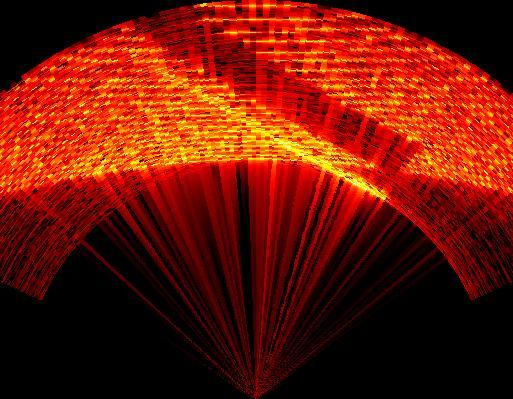pipe: (134, 8, 426, 177)
